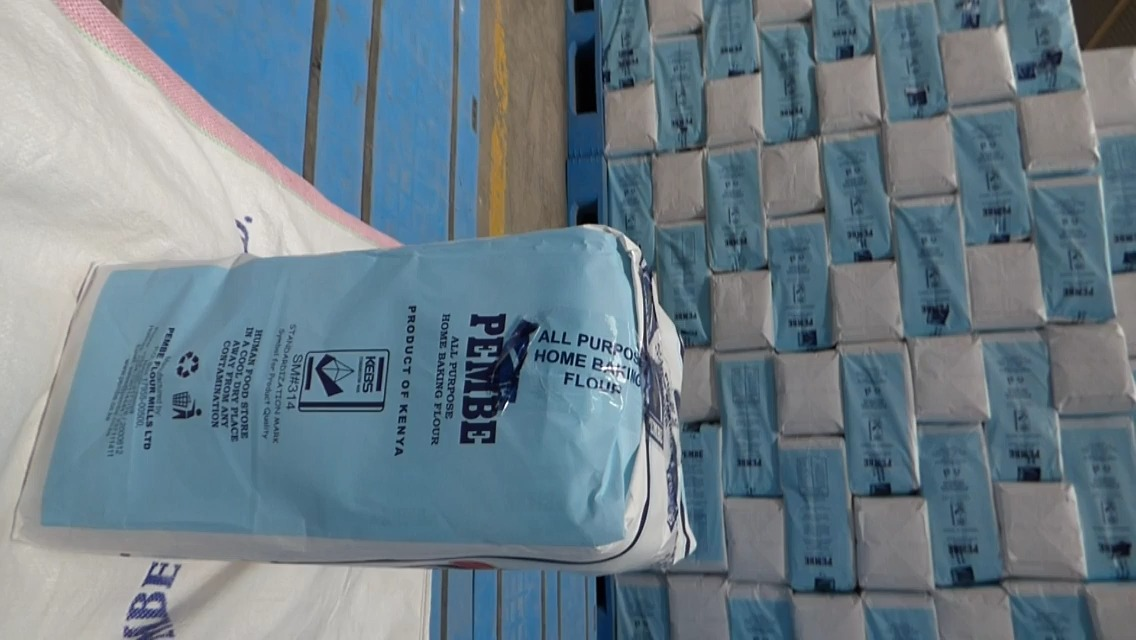wheat_flour_blue_label: (11, 229, 694, 568)
